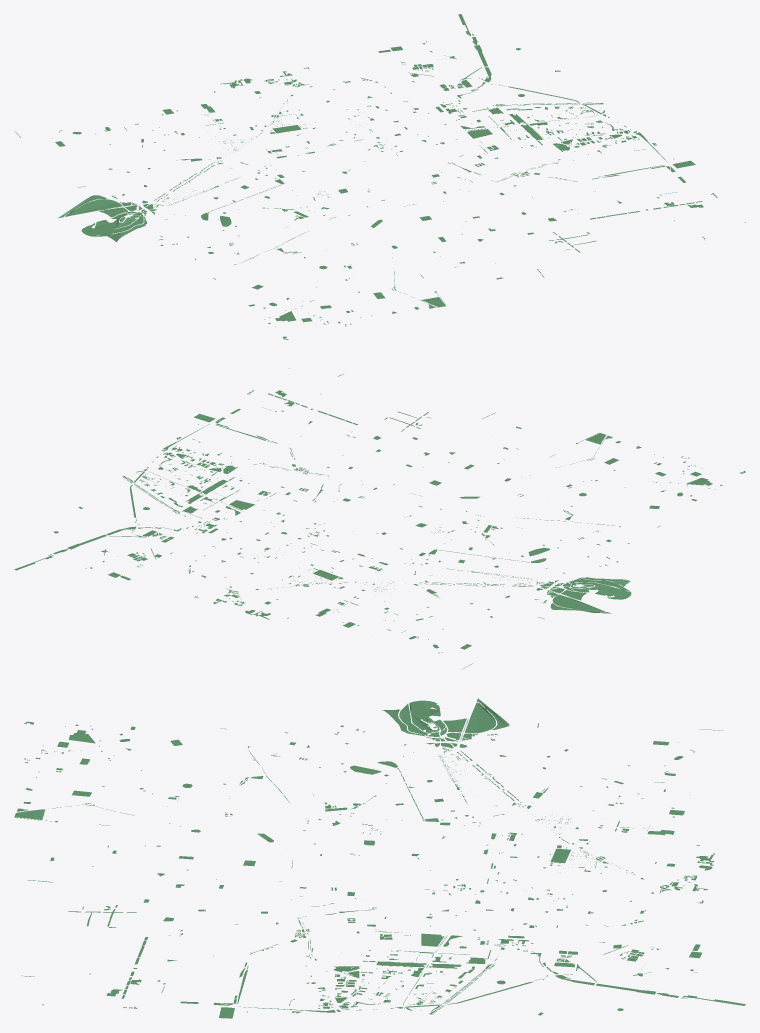
File: green.glb
The picture shows the model from 3 angles, top to bottom: view 1: azimuth 30°, elevation 25°; view 2: azimuth 150°, elevation 25°; view 3: azimuth 270°, elevation 25°; orthographic projection. The views are drawn at different scales.
Visible parts, largest first — view 1: green; view 2: green; view 3: green.
Boxes of the visible parts, x1,y1,x2,y2 form: green: (14, 14, 745, 339); green: (14, 368, 745, 669); green: (14, 698, 745, 1018).
Size of the model in its own units: 10077 by 61.5 by 9725.
